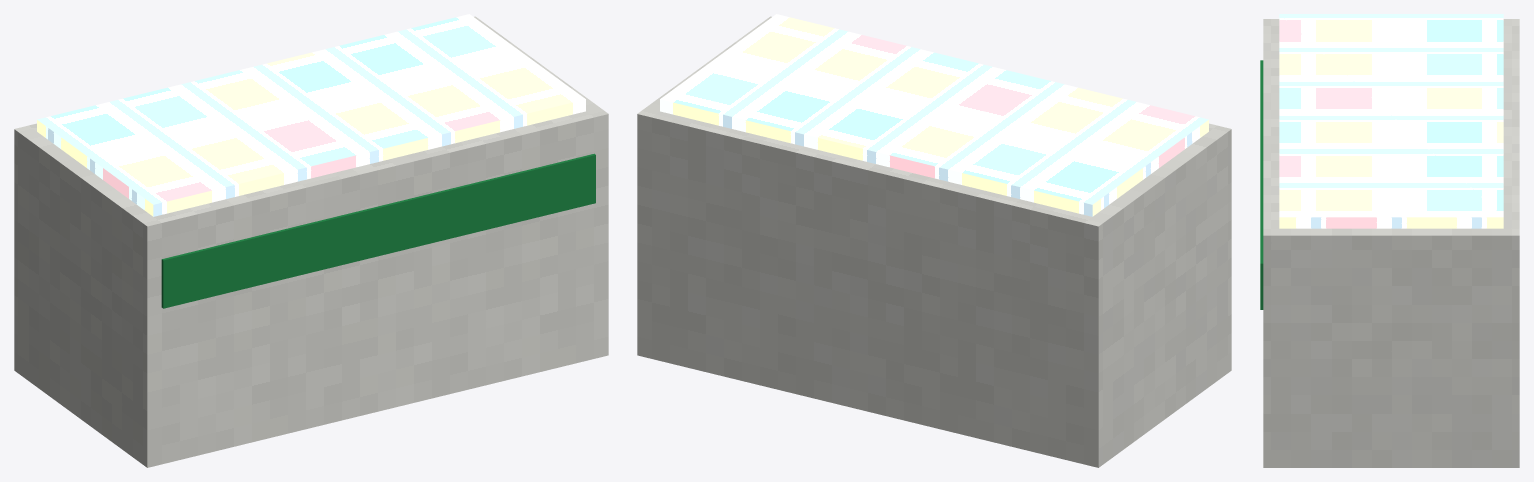
The model's file is env_ice_chest.glb.
3 renders of one model, left to right at view 1: azimuth 30°, elevation 25°; view 2: azimuth 150°, elevation 25°; view 3: azimuth 270°, elevation 25°, orthographic. The views are drawn at different scales.
Visible parts, largest first — view 1: env_ice_chest; view 2: env_ice_chest; view 3: env_ice_chest.
Boxes of the visible parts, x1,y1,x2,y2 form: env_ice_chest: [14, 14, 608, 467]; env_ice_chest: [637, 14, 1231, 467]; env_ice_chest: [1260, 14, 1519, 467].
Bounding box in the file's own units: 1.6 × 0.84 × 0.81.
Materials: 3 (3 with a texture image).
